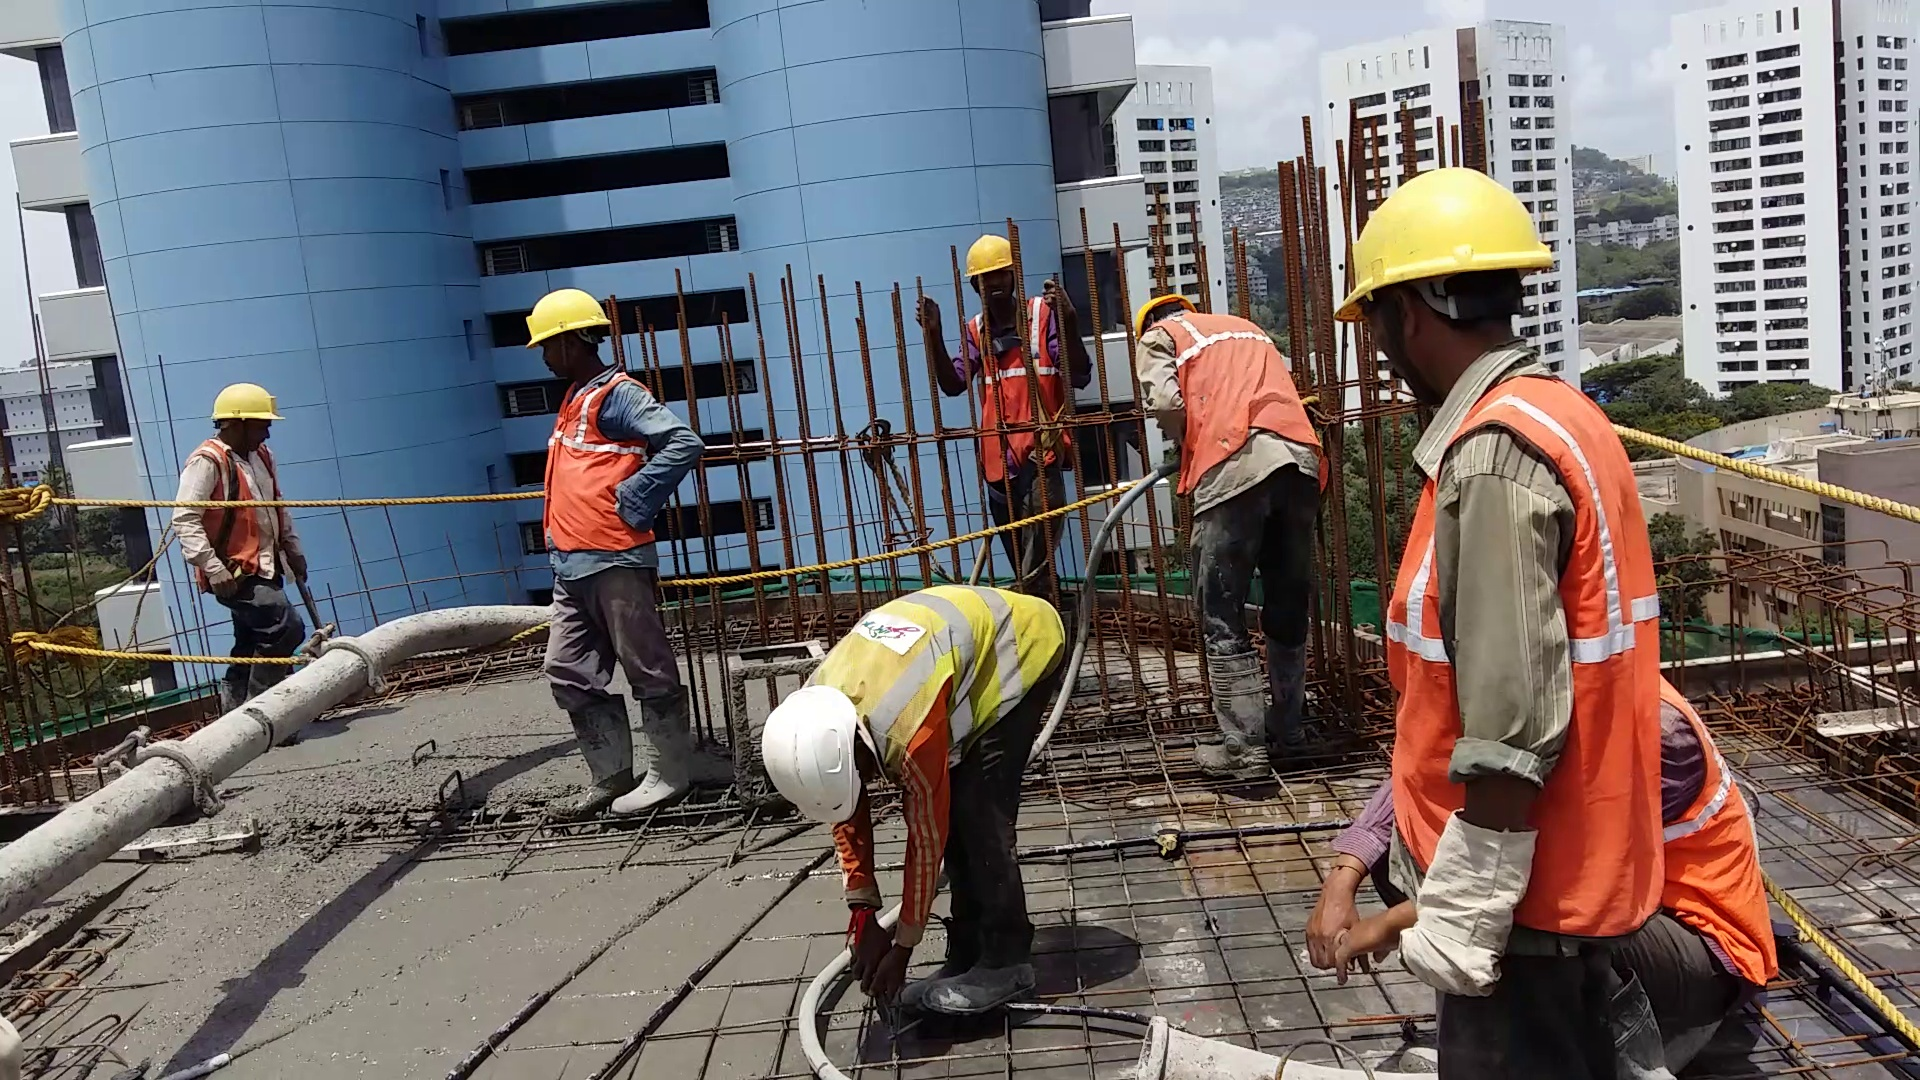SAFE: (1346, 170, 1656, 935), (756, 582, 1067, 823), (1127, 291, 1328, 495), (516, 287, 649, 558), (185, 384, 298, 595)
